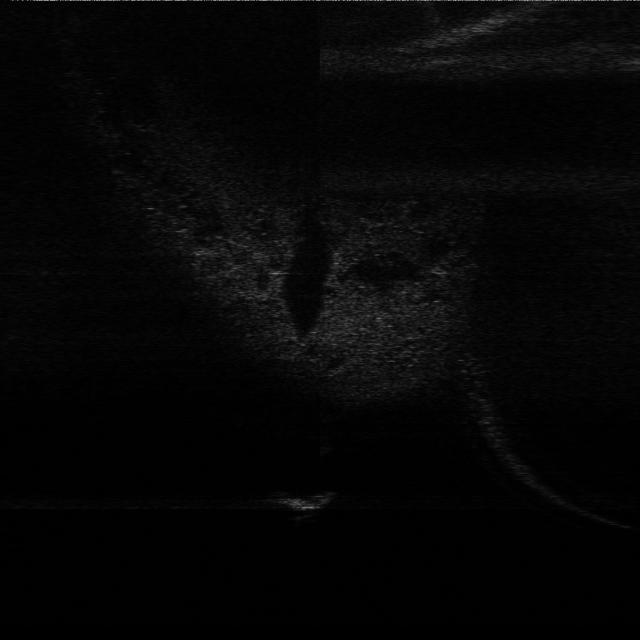square cage: (266, 477, 342, 518)
